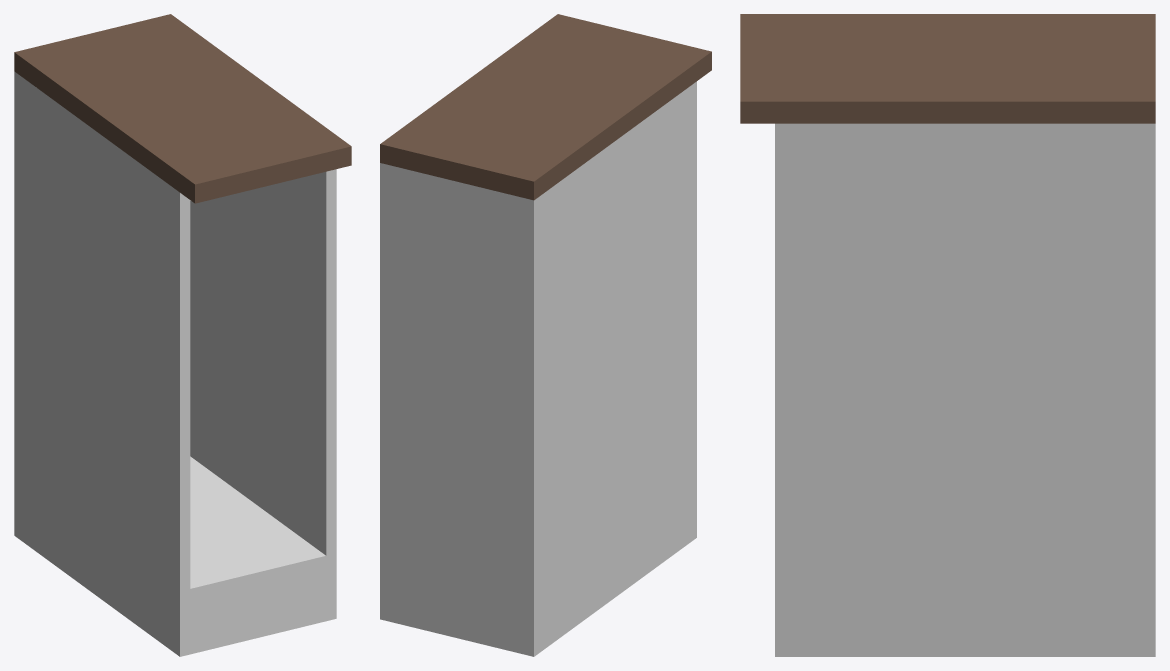
File: Kitchen1_C1_03.fbx
The picture shows the model from 3 angles, left to right: view 1: azimuth 30°, elevation 25°; view 2: azimuth 150°, elevation 25°; view 3: azimuth 270°, elevation 25°; orthographic projection. The views are drawn at different scales.
Visible parts, largest first — view 1: Kitchen1_C1_03; view 2: Kitchen1_C1_03; view 3: Kitchen1_C1_03.
Part boxes in pixels (x1,y1,x2,y2): Kitchen1_C1_03: [14, 14, 351, 656]; Kitchen1_C1_03: [380, 14, 711, 656]; Kitchen1_C1_03: [740, 14, 1155, 656].
Bounding box in the file's own units: 30 × 88.5 × 60.
